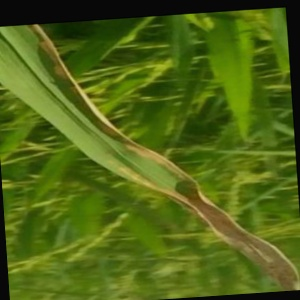Leaf_Blast: (105, 145, 193, 199)
